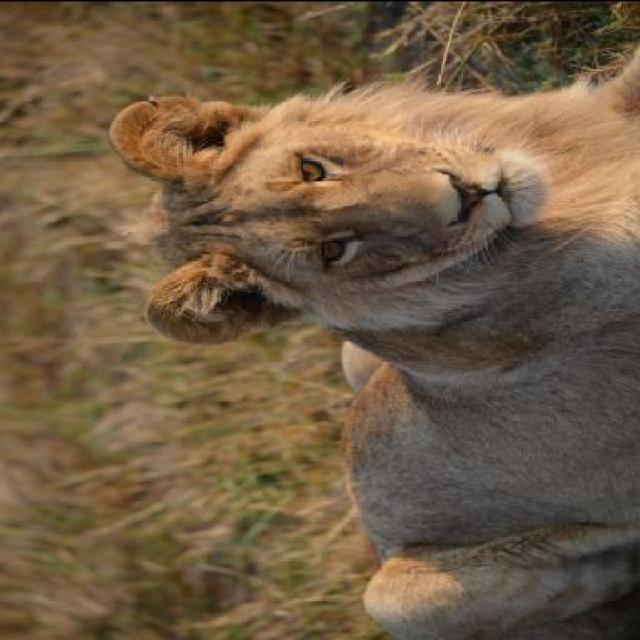Lion: (80, 22, 638, 636)
